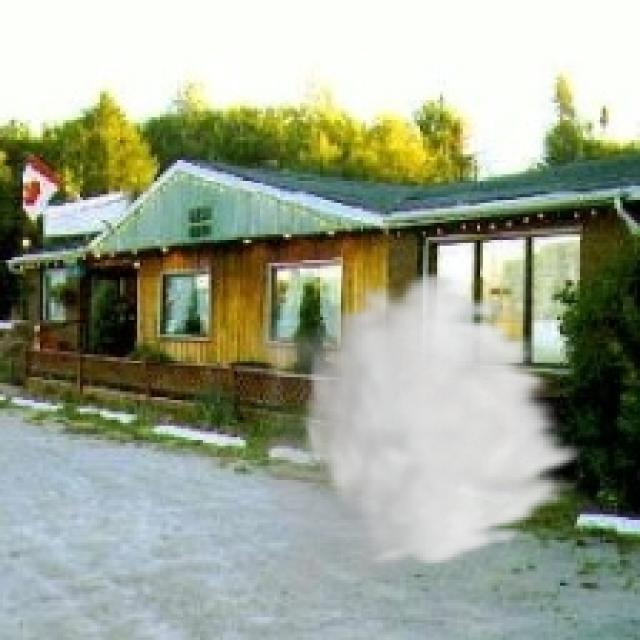Smoke: (234, 268, 589, 632)
